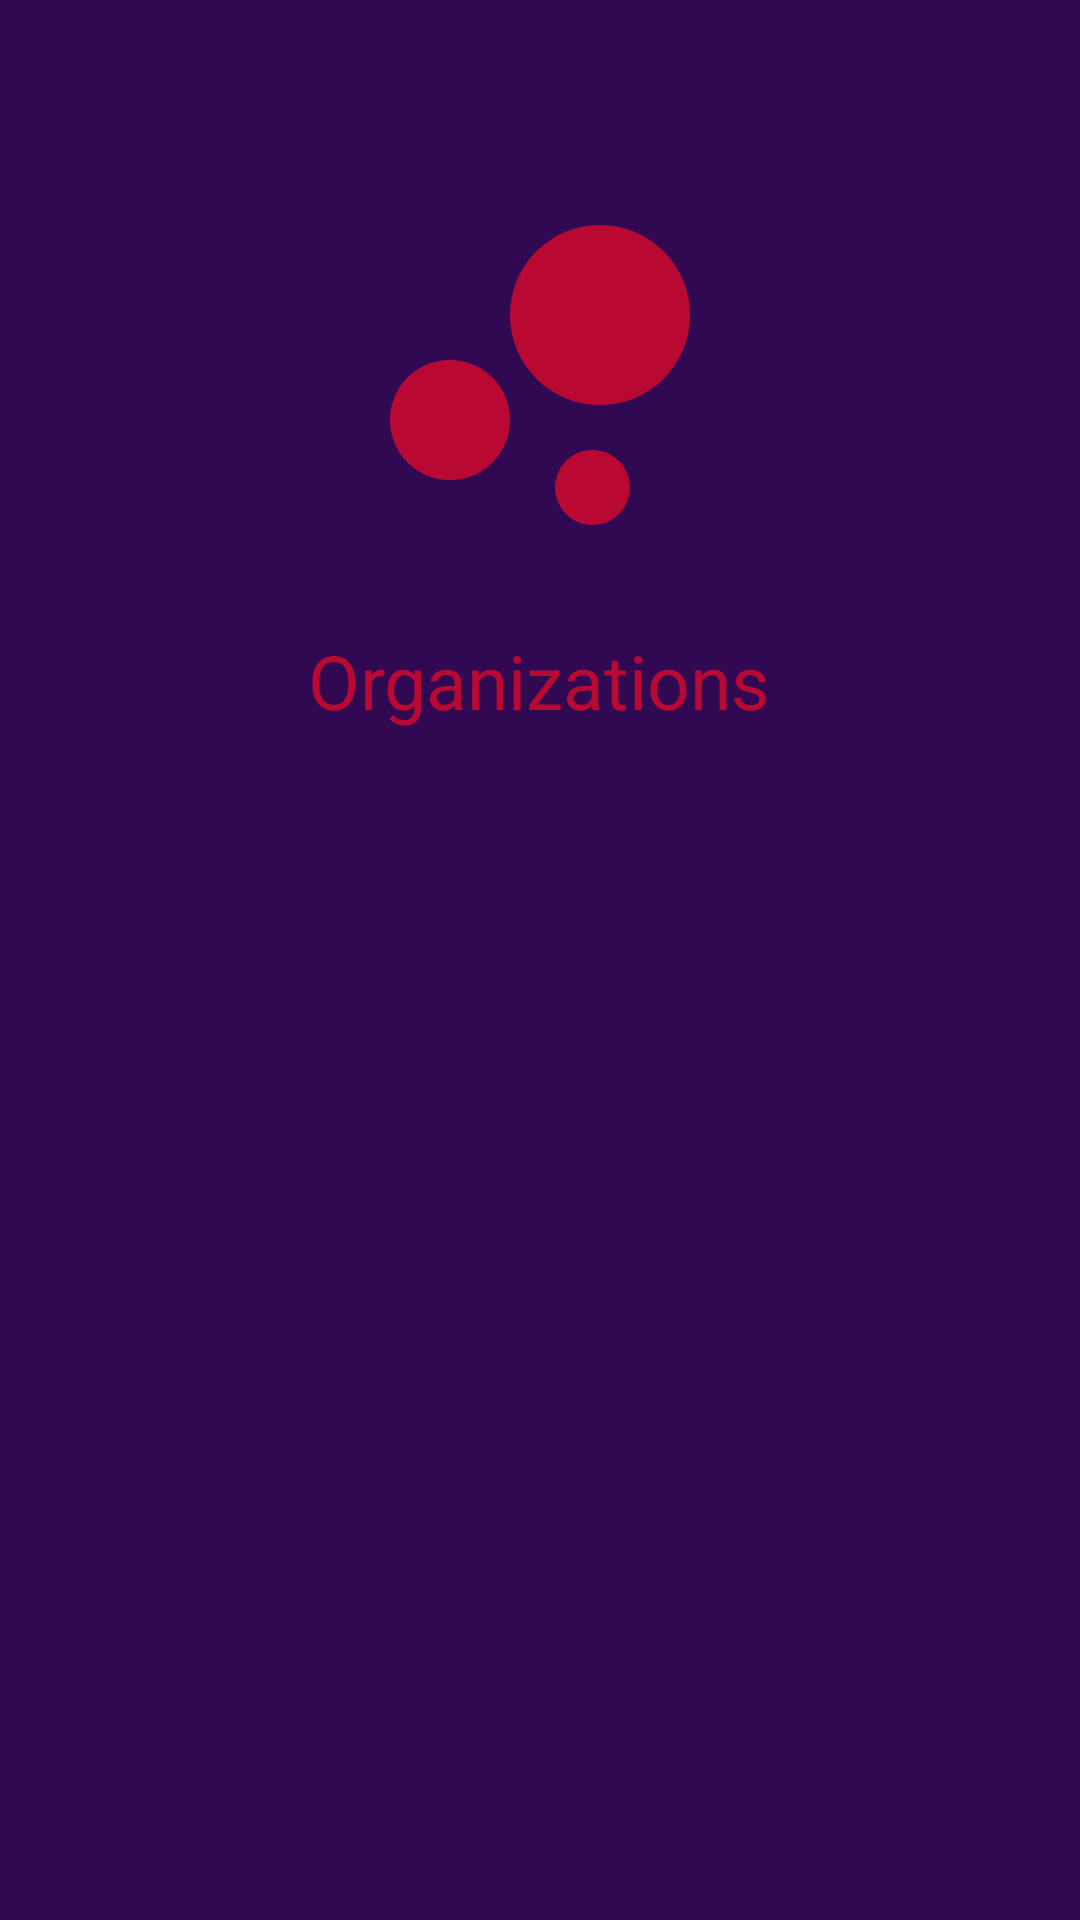

Screen size 1080px×1920px. Icon name, then its center in pixels as [x,y]:
bubble chart: [540,375]
